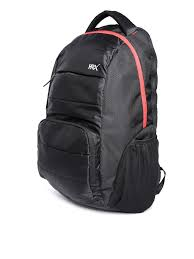backpack: (36, 9, 166, 213)
